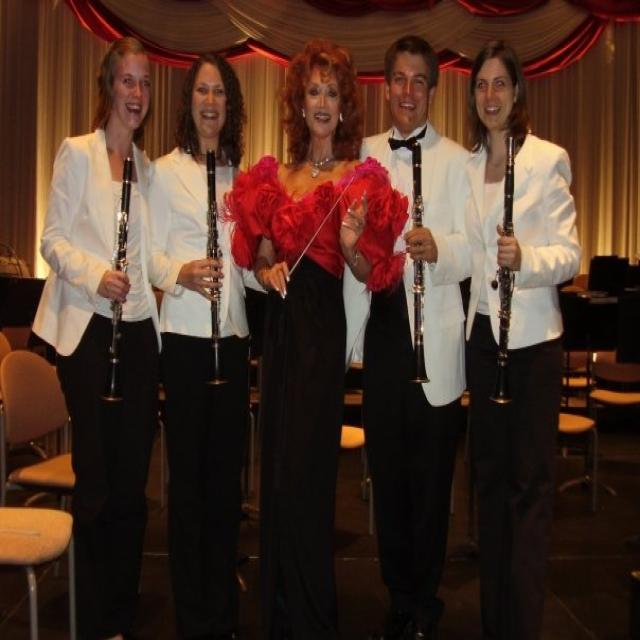clarinet: (390, 132, 439, 392), (100, 153, 138, 410), (197, 144, 234, 397), (489, 132, 518, 413)
